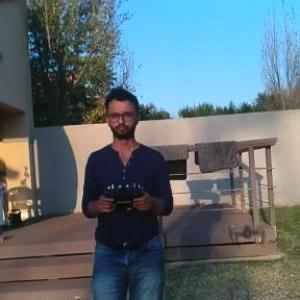follow: (78, 80, 178, 299)
